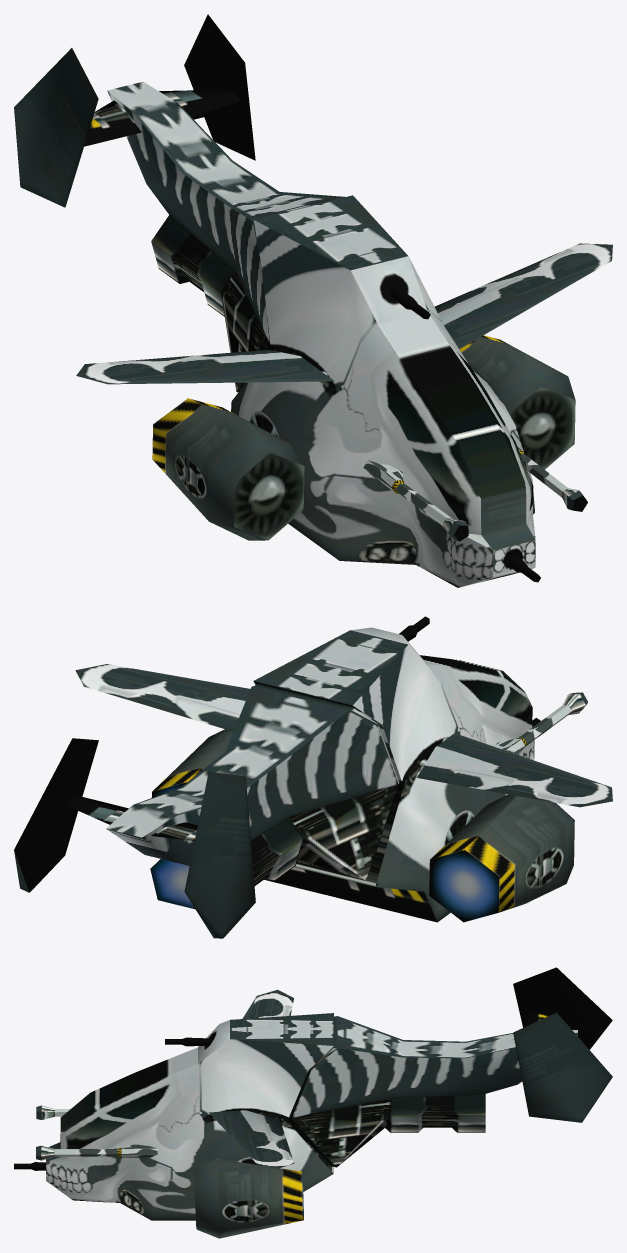
File: wc_icadv.glb
The picture shows the model from 3 angles, top to bottom: view 1: azimuth 30°, elevation 25°; view 2: azimuth 150°, elevation 25°; view 3: azimuth 270°, elevation 25°; orthographic projection. The views are drawn at different scales.
Visible parts, largest first — view 1: wc_icadv; view 2: wc_icadv; view 3: wc_icadv.
Boxes of the visible parts, box(x1,y1,x2,y2) form: wc_icadv: box(14, 14, 612, 587); wc_icadv: box(14, 616, 612, 938); wc_icadv: box(14, 967, 612, 1238).
Bounding box in the file's own units: 4.13 × 2.17 × 5.83.
1 material, 1 textured.
